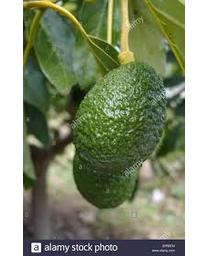avocado: (73, 61, 168, 175), (72, 143, 140, 209)
